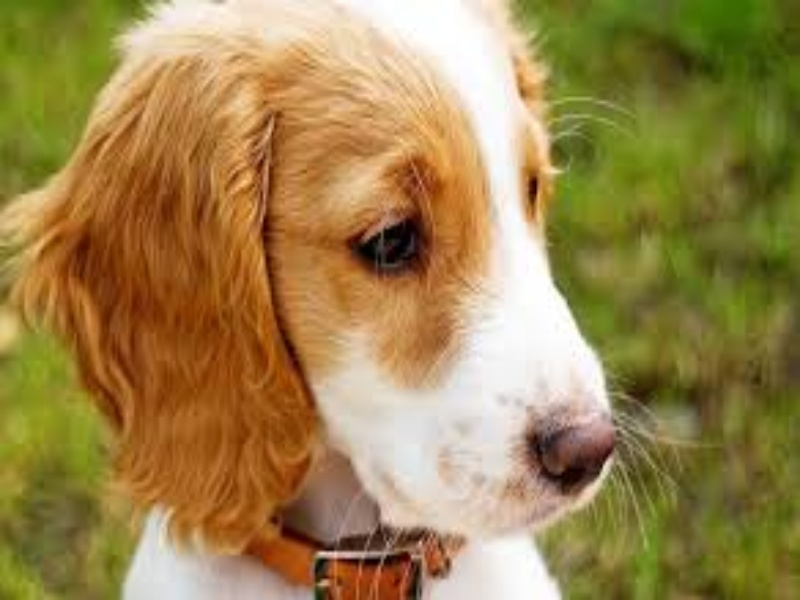dog: (18, 9, 654, 595)
